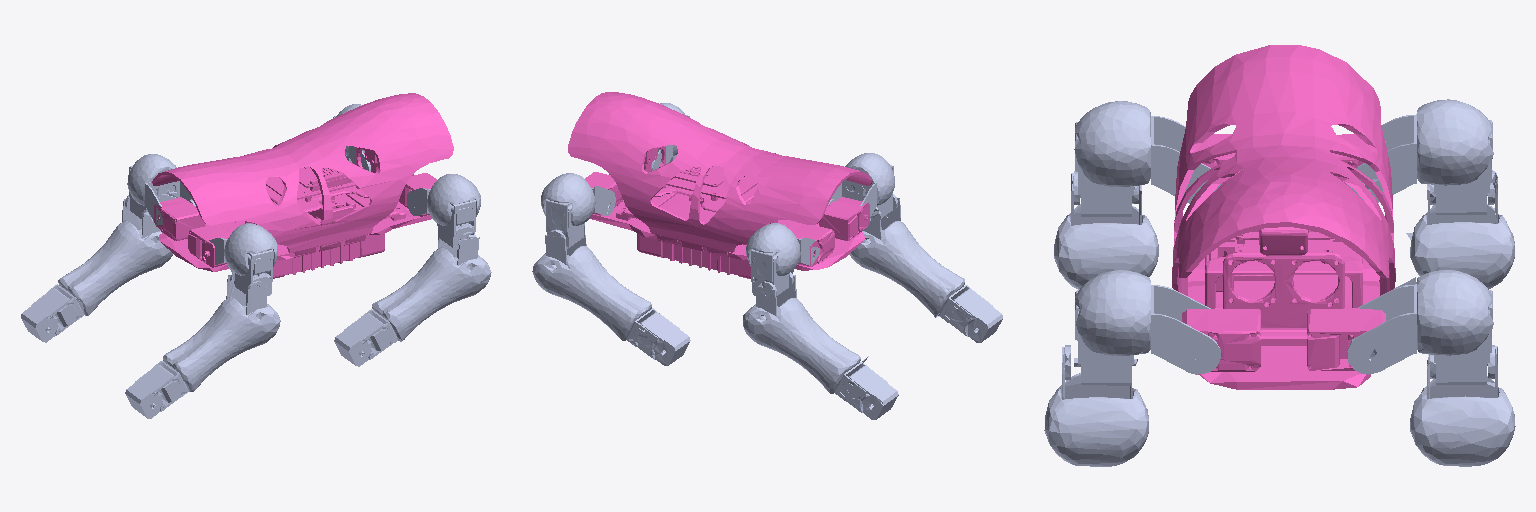
The robot description file, URDF, robot "PinkPanther_CML":
<robot name="PinkPanther_CML">
  <link name="base_link">
    <inertial>
      <origin xyz="0.00454071999132192 6.47897566883972E-05 0.0652075601364906" rpy="0 0 0" />
      <mass value="0.15720289064010115" />
      <inertia ixx="0.00037468242101270066" ixy="6.682988920657027e-08" ixz="-7.733195480915455e-05" iyy="0.0011290752872741981" iyz="6.261177616271294e-08" izz="0.0010101486206594778" />
    </inertial>
    <visual>
      <origin xyz="0 0 0" rpy="0 0 0" />
      <geometry>
        <mesh filename="package://PinkPanther_CML/meshes/base_link.STL" />
      </geometry>
      <material name="">
        <color rgba="1 0.470588235294118 0.823529411764706 1" />
      </material>
    </visual>
    <collision>
      <origin xyz="0 0 0" rpy="0 0 0" />
      <geometry>
        <mesh filename="package://PinkPanther_CML/meshes/low_qual/base_link.STL" />
      </geometry>
    </collision>
  </link>
  <link name="lf_shoulder_link">
    <inertial>
      <origin xyz="-0.03075 0.010763 0.045764" rpy="0 0 0" />
      <mass value="0.07727819540223252" />
      <inertia ixx="2.0634043774882376e-05" ixy="2.0205357182017935e-07" ixz="2.736443215945517e-07" iyy="2.2136797580678327e-05" iyz="-1.0009380854954361e-06" izz="2.0148682798651763e-05" />
    </inertial>
    <visual>
      <origin xyz="0 0 0" rpy="0 0 0" />
      <geometry>
        <mesh filename="package://PinkPanther_CML/meshes/low_qual/lf_shoulder_link.STL" />
      </geometry>
      <material name="">
        <color rgba="0.79216 0.81961 0.93333 1" />
      </material>
    </visual>
    <collision>
      <origin xyz="0 0 0" rpy="0 0 0" />
      <geometry>
        <mesh filename="package://PinkPanther_CML/meshes/low_qual/lf_shoulder_link.STL" />
      </geometry>
    </collision>
  </link>
  <joint name="LF_ARMPIT" type="revolute">
    <origin xyz="0.086416 0.04808 0.020486" rpy="1.5666 -5.102E-05 3.1416" />
    <parent link="base_link" />
    <child link="lf_shoulder_link" />
    <axis xyz="1 -5.102E-05 0" />
    <limit lower="-0.6322955328513884" upper="0.6148221355978172" effort="4.136563353606351" velocity="0.1965379594935579" />
  </joint>
  <link name="lf_thigh_link">
    <inertial>
      <origin xyz="0.059996 -0.034184 0.032377" rpy="0 0 0" />
      <mass value="0.2073119621444129" />
      <inertia ixx="5.09148927346855e-05" ixy="-7.180348701927421e-06" ixz="-1.0215743725542199e-08" iyy="0.00024381487469807327" iyz="4.3854074952990835e-10" izz="0.00017629056537287816" />
    </inertial>
    <visual>
      <origin xyz="0 0 0" rpy="0 0 0" />
      <geometry>
        <mesh filename="package://PinkPanther_CML/meshes/low_qual/lf_thigh_link.STL" />
      </geometry>
      <material name="">
        <color rgba="0.79216 0.81961 0.93333 1" />
      </material>
    </visual>
    <collision>
      <origin xyz="0 0 0" rpy="0 0 0" />
      <geometry>
        <mesh filename="package://PinkPanther_CML/meshes/low_qual/lf_thigh_link.STL" />
      </geometry>
    </collision>
  </link>
  <joint name="LF_ELBOW" type="revolute">
    <origin xyz="-0.029275 -0.014657 0.021201" rpy="0 0 -0.43549" />
    <parent link="lf_shoulder_link" />
    <child link="lf_thigh_link" />
    <axis xyz="0 0 1" />
    <limit lower="-0.8628682268759121" upper="1.253222889688645" effort="3.8656231910071517" velocity="0.17753203095357406" />
  </joint>
  <link name="lf_calf_link">
    <inertial>
      <origin xyz="-0.0562746607594241 -0.0312019222312566 0.0300902624876031" rpy="0 0 0" />
      <mass value="0.11935977779461612" />
      <inertia ixx="2.606119340584247e-05" ixy="5.628160147377474e-06" ixz="-6.950667981419065e-09" iyy="0.00024179517655201115" iyz="3.8144981043308276e-09" izz="0.00024560518072080803" />
    </inertial>
    <visual>
      <origin xyz="0 0 0" rpy="0 0 0" />
      <geometry>
        <mesh filename="package://PinkPanther_CML/meshes/low_qual/lf_calf_link.STL" />
      </geometry>
      <material name="">
        <color rgba="0.792156862745098 0.819607843137255 0.933333333333333 1" />
      </material>
    </visual>
    <collision>
      <origin xyz="0 0 0" rpy="0 0 0" />
      <geometry>
        <mesh filename="package://PinkPanther_CML/meshes/low_qual/lf_calf_link.STL" />
      </geometry>
    </collision>
  </link>
  <joint name="LF_KNEE" type="revolute">
    <origin xyz="0.14707 -0.034829 0.0022602" rpy="0 0 0.93771" />
    <parent link="lf_thigh_link" />
    <child link="lf_calf_link" />
    <axis xyz="0 0 1" />
    <limit lower="-0.5872182566080129" upper="1.6363420564374795" effort="3.792291326316036" velocity="0.15827673902198244" />
  </joint>
  <link name="rf_shoulder_link">
    <inertial>
      <origin xyz="-0.030838 0.010759 -0.045563" rpy="0 0 0" />
      <mass value="0.0895151335907991" />
      <inertia ixx="2.1811910970314233e-05" ixy="2.0776199840385813e-07" ixz="-3.719392551469673e-07" iyy="1.877112958407836e-05" iyz="9.2528463002795e-07" izz="2.877603833625516e-05" />
    </inertial>
    <visual>
      <origin xyz="0 0 0" rpy="0 0 0" />
      <geometry>
        <mesh filename="package://PinkPanther_CML/meshes/low_qual/rf_shoulder_link.STL" />
      </geometry>
      <material name="">
        <color rgba="0.79216 0.81961 0.93333 1" />
      </material>
    </visual>
    <collision>
      <origin xyz="0 0 0" rpy="0 0 0" />
      <geometry>
        <mesh filename="package://PinkPanther_CML/meshes/low_qual/rf_shoulder_link.STL" />
      </geometry>
    </collision>
  </link>
  <joint name="RF_ARMPIT" type="revolute">
    <origin xyz="0.086926 -0.04808 0.020486" rpy="1.5736 5.102E-05 3.1416" />
    <parent link="base_link" />
    <child link="rf_shoulder_link" />
    <axis xyz="1 5.102E-05 0" />
    <limit lower="-0.6272974744309484" upper="0.6318960781900135" effort="4.089254366262922" velocity="0.19367674257621087" />
  </joint>
  <link name="rf_thigh_link">
    <inertial>
      <origin xyz="0.059996319544716 -0.0341838862880749 -0.0326354177099718" rpy="0 0 0" />
      <mass value="0.2102280794049071" />
      <inertia ixx="5.0102357139976476e-05" ixy="-6.465626281834464e-06" ixz="-8.435453018987676e-09" iyy="0.00020696427388251746" iyz="4.935973794250445e-10" izz="0.00019935646026990282" />
    </inertial>
    <visual>
      <origin xyz="0 0 0" rpy="0 0 0" />
      <geometry>
        <mesh filename="package://PinkPanther_CML/meshes/low_qual/rf_thigh_link.STL" />
      </geometry>
      <material name="">
        <color rgba="0.792156862745098 0.819607843137255 0.933333333333333 1" />
      </material>
    </visual>
    <collision>
      <origin xyz="0 0 0" rpy="0 0 0" />
      <geometry>
        <mesh filename="package://PinkPanther_CML/meshes/low_qual/rf_thigh_link.STL" />
      </geometry>
    </collision>
  </link>
  <joint name="RF_ELBOW" type="revolute">
    <origin xyz="-0.029276 -0.01466 -0.020328" rpy="0 0 -0.42784" />
    <parent link="rf_shoulder_link" />
    <child link="rf_thigh_link" />
    <axis xyz="0 0 1" />
    <limit lower="-1.0513355037019727" upper="0.9770007357832708" effort="4.524214099839457" velocity="0.16655012489227125" />
  </joint>
  <link name="rf_calf_link">
    <inertial>
      <origin xyz="-0.0562746594086836 -0.031201912312426 -0.0304061026125255" rpy="0 0 0" />
      <mass value="0.12954491132559387" />
      <inertia ixx="2.5242407097961468e-05" ixy="7.061094674544304e-06" ixz="-7.443589514993018e-09" iyy="0.0002556055275489088" iyz="2.7853356417142766e-09" izz="0.00025057136184653125" />
    </inertial>
    <visual>
      <origin xyz="0 0 0" rpy="0 0 0" />
      <geometry>
        <mesh filename="package://PinkPanther_CML/meshes/low_qual/rf_calf_link.STL" />
      </geometry>
      <material name="">
        <color rgba="0.792156862745098 0.819607843137255 0.933333333333333 1" />
      </material>
    </visual>
    <collision>
      <origin xyz="0 0 0" rpy="0 0 0" />
      <geometry>
        <mesh filename="package://PinkPanther_CML/meshes/low_qual/rf_calf_link.STL" />
      </geometry>
    </collision>
  </link>
  <joint name="RF_KNEE" type="revolute">
    <origin xyz="0.14707 -0.034829 -0.0017563" rpy="0 0 0.93378" />
    <parent link="rf_thigh_link" />
    <child link="rf_calf_link" />
    <axis xyz="0 0 1" />
    <limit lower="-0.5662548692858598" upper="1.6491198312487345" effort="4.08020740090688" velocity="0.18659234971838842" />
  </joint>
  <link name="lb_shoulder_link">
    <inertial>
      <origin xyz="0.0268112424173798 0.0107596960598041 0.0457636308417059" rpy="0 0 0" />
      <mass value="0.08472671801093974" />
      <inertia ixx="1.9625313725027276e-05" ixy="1.8003068901821657e-07" ixz="3.289342468094219e-07" iyy="1.66566076863733e-05" iyz="-1.1035435034383502e-06" izz="2.0726310087475057e-05" />
    </inertial>
    <visual>
      <origin xyz="0 0 0" rpy="0 0 0" />
      <geometry>
        <mesh filename="package://PinkPanther_CML/meshes/low_qual/lb_shoulder_link.STL" />
      </geometry>
      <material name="">
        <color rgba="0.792156862745098 0.819607843137255 0.933333333333333 1" />
      </material>
    </visual>
    <collision>
      <origin xyz="0 0 0" rpy="0 0 0" />
      <geometry>
        <mesh filename="package://PinkPanther_CML/meshes/low_qual/lb_shoulder_link.STL" />
      </geometry>
    </collision>
  </link>
  <joint name="LB_ARMPIT" type="revolute">
    <origin xyz="-0.090843 0.04808 0.020486" rpy="1.5668 -5.102E-05 -3.1416" />
    <parent link="base_link" />
    <child link="lb_shoulder_link" />
    <axis xyz="1 -5.102E-05 0" />
    <limit lower="-0.4827213073714243" upper="0.6626284267895697" effort="3.339658413072056" velocity="0.18414868513893698" />
  </joint>
  <link name="lb_thigh_link">
    <inertial>
      <origin xyz="0.0599962531882521 -0.0341838743931865 0.0323774662751334" rpy="0 0 0" />
      <mass value="0.20071110279070248" />
      <inertia ixx="6.499256073559133e-05" ixy="-7.673441775902374e-06" ixz="-1.0906020210215932e-08" iyy="0.00018378235572610142" iyz="4.294086064404344e-10" izz="0.00023192029665919785" />
    </inertial>
    <visual>
      <origin xyz="0 0 0" rpy="0 0 0" />
      <geometry>
        <mesh filename="package://PinkPanther_CML/meshes/low_qual/lb_thigh_link.STL" />
      </geometry>
      <material name="">
        <color rgba="0.792156862745098 0.819607843137255 0.933333333333333 1" />
      </material>
    </visual>
    <collision>
      <origin xyz="0 0 0" rpy="0 0 0" />
      <geometry>
        <mesh filename="package://PinkPanther_CML/meshes/low_qual/lb_thigh_link.STL" />
      </geometry>
    </collision>
  </link>
  <joint name="LB_ELBOW" type="revolute">
    <origin xyz="0.028287 -0.014659 0.021201" rpy="0 0 -0.46494" />
    <parent link="lb_shoulder_link" />
    <child link="lb_thigh_link" />
    <axis xyz="0 0 1" />
    <limit lower="-0.869315180270374" upper="1.3900231837167416" effort="4.244864410287682" velocity="0.19354035466954594" />
  </joint>
  <link name="lb_calf_link">
    <inertial>
      <origin xyz="-0.0562746283337433 -0.0312019131985415 0.0300903536116095" rpy="0 0 0" />
      <mass value="0.10791981986406472" />
      <inertia ixx="2.9498377306770033e-05" ixy="6.597588306414542e-06" ixz="-5.41769201057177e-09" iyy="0.00026730994243814" iyz="3.4885464262732345e-09" izz="0.0002560207484431502" />
    </inertial>
    <visual>
      <origin xyz="0 0 0" rpy="0 0 0" />
      <geometry>
        <mesh filename="package://PinkPanther_CML/meshes/low_qual/lb_calf_link.STL" />
      </geometry>
      <material name="">
        <color rgba="0.792156862745098 0.819607843137255 0.933333333333333 1" />
      </material>
    </visual>
    <collision>
      <origin xyz="0 0 0" rpy="0 0 0" />
      <geometry>
        <mesh filename="package://PinkPanther_CML/meshes/low_qual/lb_calf_link.STL" />
      </geometry>
    </collision>
  </link>
  <joint name="LB_KNEE" type="revolute">
    <origin xyz="0.14707 -0.034829 0.0022602" rpy="0 0 0.97678" />
    <parent link="lb_thigh_link" />
    <child link="lb_calf_link" />
    <axis xyz="0 0 1" />
    <limit lower="-0.7320421031388722" upper="1.4495037063503917" effort="4.171139274674051" velocity="0.14547050486831015" />
  </joint>
  <link name="rb_shoulder_link">
    <inertial>
      <origin xyz="0.0267231655282443 0.010762075261042 -0.0455633379422674" rpy="0 0 0" />
      <mass value="0.07620249805861909" />
      <inertia ixx="1.673560932902985e-05" ixy="2.0909557669176827e-07" ixz="-3.430294957745306e-07" iyy="1.9738194978542077e-05" iyz="1.004415295981933e-06" izz="2.41986694759902e-05" />
    </inertial>
    <visual>
      <origin xyz="0 0 0" rpy="0 0 0" />
      <geometry>
        <mesh filename="package://PinkPanther_CML/meshes/low_qual/rb_shoulder_link.STL" />
      </geometry>
      <material name="">
        <color rgba="0.792156862745098 0.819607843137255 0.933333333333333 1" />
      </material>
    </visual>
    <collision>
      <origin xyz="0 0 0" rpy="0 0 0" />
      <geometry>
        <mesh filename="package://PinkPanther_CML/meshes/low_qual/rb_shoulder_link.STL" />
      </geometry>
    </collision>
  </link>
  <joint name="RB_ARMPIT" type="revolute">
    <origin xyz="-0.090333 -0.04808 0.020486" rpy="1.5701 5.102E-05 -3.1416" />
    <parent link="base_link" />
    <child link="rb_shoulder_link" />
    <axis xyz="1 5.102E-05 0" />
    <limit lower="-0.6138752568466032" upper="0.5670275546001883" effort="3.8673370589071" velocity="0.1909333781717398" />
  </joint>
  <link name="rb_thigh_link">
    <inertial>
      <origin xyz="0.0599962641867017 -0.0341838839492449 -0.0322633194933277" rpy="0 0 0" />
      <mass value="0.1936769029952713" />
      <inertia ixx="5.725267820525084e-05" ixy="-7.436386185238891e-06" ixz="-8.71319446912779e-09" iyy="0.00017654809636759568" iyz="3.991339512271756e-10" izz="0.00021805513143380463" />
    </inertial>
    <visual>
      <origin xyz="0 0 0" rpy="0 0 0" />
      <geometry>
        <mesh filename="package://PinkPanther_CML/meshes/low_qual/rb_thigh_link.STL" />
      </geometry>
      <material name="">
        <color rgba="0.792156862745098 0.819607843137255 0.933333333333333 1" />
      </material>
    </visual>
    <collision>
      <origin xyz="0 0 0" rpy="0 0 0" />
      <geometry>
        <mesh filename="package://PinkPanther_CML/meshes/low_qual/rb_thigh_link.STL" />
      </geometry>
    </collision>
  </link>
  <joint name="RB_ELBOW" type="revolute">
    <origin xyz="0.028285 -0.014657 -0.0207" rpy="0 0 -0.46283" />
    <parent link="rb_shoulder_link" />
    <child link="rb_thigh_link" />
    <axis xyz="0 0 1" />
    <limit lower="-1.032855360197795" upper="1.3740208163353016" effort="4.0085198652854155" velocity="0.18140486842656217" />
  </joint>
  <link name="rb_calf_link">
    <inertial>
      <origin xyz="-0.0562746202737299 -0.031201906093811 -0.0300128862017215" rpy="0 0 0" />
      <mass value="0.12220532568595793" />
      <inertia ixx="2.7564386194555382e-05" ixy="6.674921183109388e-06" ixz="-7.076290737718982e-09" iyy="0.0002687253773058277" iyz="2.891048694921586e-09" izz="0.0002877834334099221" />
    </inertial>
    <visual>
      <origin xyz="0 0 0" rpy="0 0 0" />
      <geometry>
        <mesh filename="package://PinkPanther_CML/meshes/low_qual/rb_calf_link.STL" />
      </geometry>
      <material name="">
        <color rgba="0.792156862745098 0.819607843137255 0.933333333333333 1" />
      </material>
    </visual>
    <collision>
      <origin xyz="0 0 0" rpy="0 0 0" />
      <geometry>
        <mesh filename="package://PinkPanther_CML/meshes/low_qual/rb_calf_link.STL" />
      </geometry>
    </collision>
  </link>
  <joint name="RB_KNEE" type="revolute">
    <origin xyz="0.14707 -0.034829 -0.0017774" rpy="0 0 0.9789" />
    <parent link="rb_thigh_link" />
    <child link="rb_calf_link" />
    <axis xyz="0 0 1" />
    <limit lower="-0.6037244944834562" upper="1.327141744129211" effort="4.5297120894334295" velocity="0.17209922425509144" />
  </joint>
</robot>

--- What the picture shows (computed from the rendered views, not written in the file) ---
Views: 3 orthographic renders of the robot side by side, from view 1: azimuth 30°, elevation 25°; view 2: azimuth 150°, elevation 25°; view 3: azimuth 270°, elevation 25°.
Model PinkPanther_CML with 13 links and 12 joints (12 revolute), rooted at base_link, posed every joint at zero.
Visible links, largest first — view 1: base_link, rb_thigh_link, rf_thigh_link, lb_thigh_link, rf_shoulder_link, rb_shoulder_link, lb_shoulder_link; view 2: base_link, lb_thigh_link, lf_thigh_link, rb_thigh_link, lf_shoulder_link, lb_shoulder_link, rb_shoulder_link; view 3: base_link, lf_shoulder_link, rf_shoulder_link, lb_shoulder_link, rb_shoulder_link, lf_thigh_link, rf_thigh_link, lb_thigh_link, rb_thigh_link.
Boxes of the visible links, left/top/right/bottom form: base_link: left=151, top=93, right=453, bottom=278; rb_thigh_link: left=125, top=272, right=280, bottom=418; rf_thigh_link: left=334, top=232, right=491, bottom=366; lb_thigh_link: left=21, top=195, right=172, bottom=342; rf_shoulder_link: left=407, top=174, right=480, bottom=249; rb_shoulder_link: left=209, top=223, right=277, bottom=295; lb_shoulder_link: left=127, top=154, right=195, bottom=225; base_link: left=568, top=92, right=872, bottom=278; lb_thigh_link: left=743, top=272, right=898, bottom=419; lf_thigh_link: left=532, top=226, right=690, bottom=365; rb_thigh_link: left=849, top=194, right=1002, bottom=342; lf_shoulder_link: left=541, top=173, right=615, bottom=249; lb_shoulder_link: left=746, top=223, right=819, bottom=296; rb_shoulder_link: left=828, top=153, right=894, bottom=218; base_link: left=1172, top=45, right=1395, bottom=389; lf_shoulder_link: left=1347, top=270, right=1493, bottom=384; rf_shoulder_link: left=1074, top=270, right=1220, bottom=385; lb_shoulder_link: left=1347, top=99, right=1493, bottom=214; rb_shoulder_link: left=1074, top=101, right=1220, bottom=216; lf_thigh_link: left=1410, top=345, right=1515, bottom=466; rf_thigh_link: left=1044, top=345, right=1148, bottom=466; lb_thigh_link: left=1406, top=170, right=1514, bottom=289; rb_thigh_link: left=1054, top=171, right=1158, bottom=289.
Bounding box of the posed robot: 0.3918 × 0.268 × 0.2139 m (x, y, z).
9 mesh visuals loaded from 13 distinct referenced files (9 binary STL); not drawn: 4 (reference not matched to a file when rendering).
